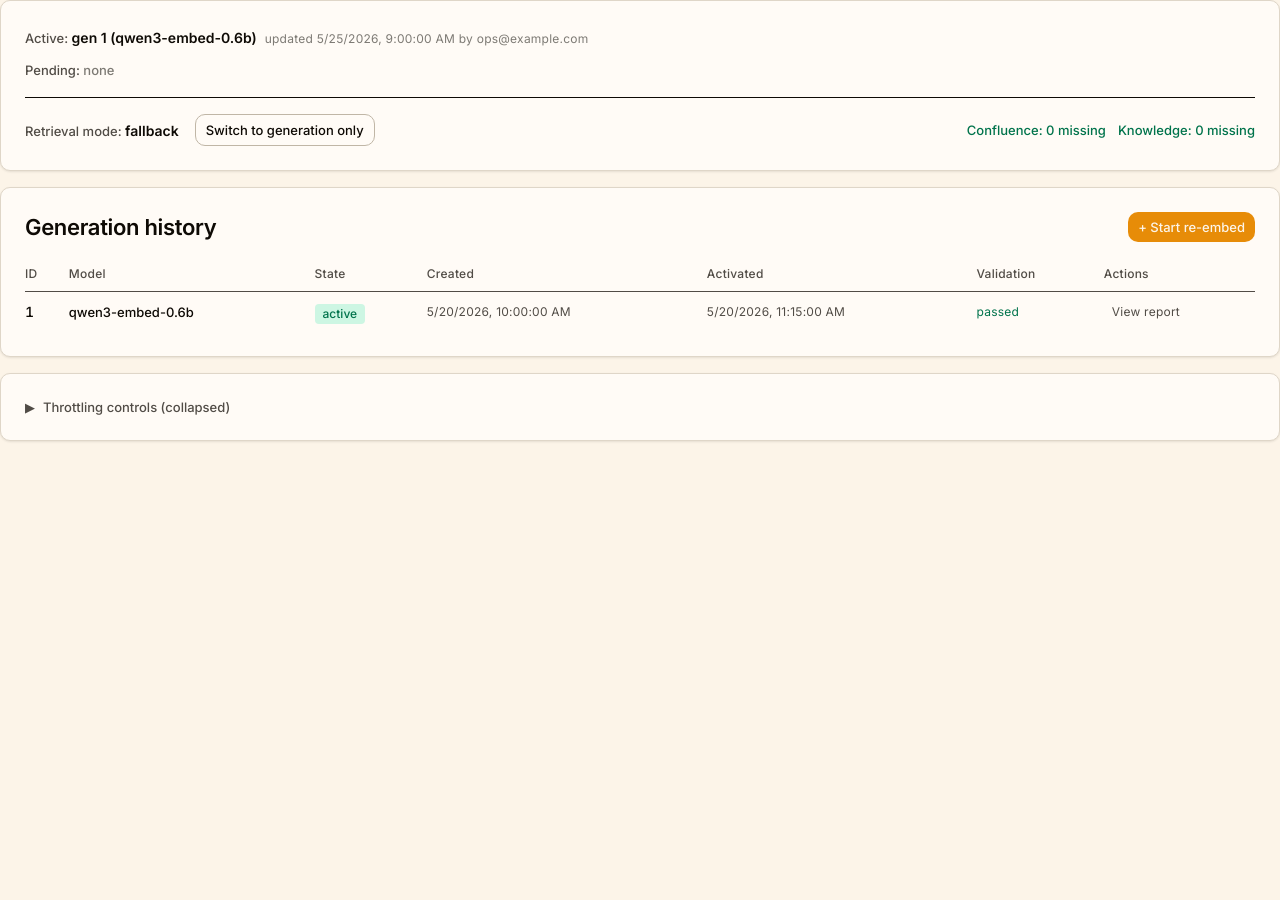
Test case: EmbedderLifecyclePanel — validation report modal › View report with no validation_report shows placeholder
Click the button with test id "btn-view-report-1": click(1146, 312) [1104, 300, 1188, 324]
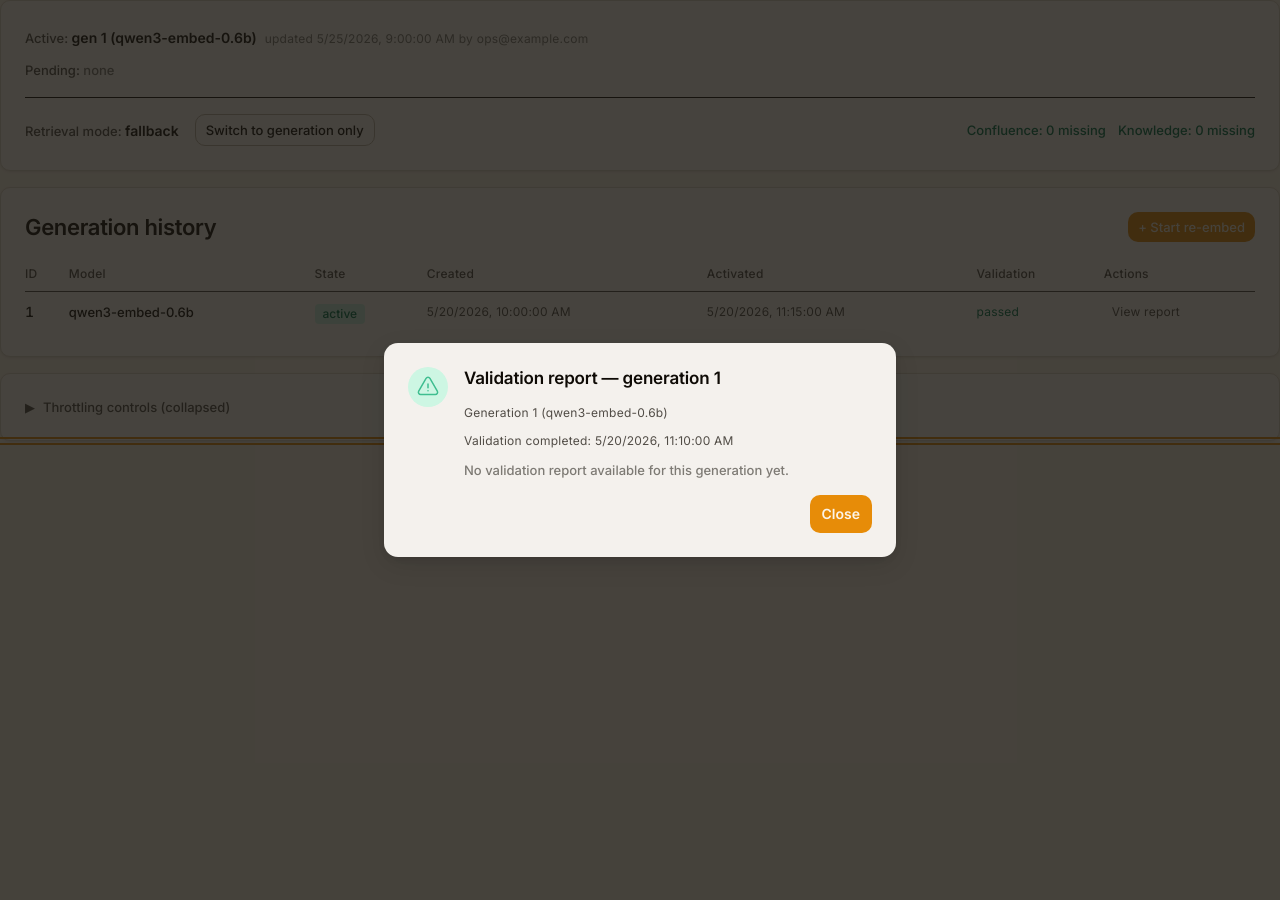
Check: the element with test id "report-modal-body" is shown, box [464, 405, 789, 480]
Check: the text "No validation report available for this generation yet." is shown, box [464, 461, 789, 480]
Check: the text with test id "report-not-available" shows "No validation report available", box [464, 462, 789, 478]
